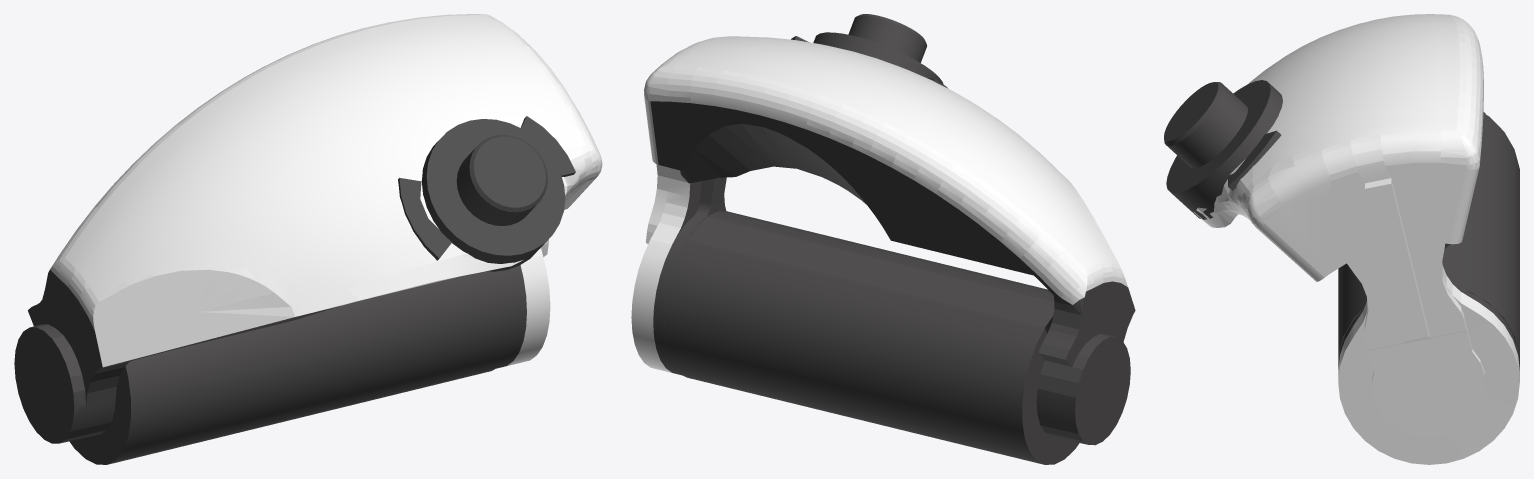
The model's file is LHipYawPitch.dae.
3 views of the same model, side by side, from view 1: azimuth 30°, elevation 25°; view 2: azimuth 150°, elevation 25°; view 3: azimuth 270°, elevation 25° (orthographic). The views are drawn at different scales.
Parts seen in each view (by area): view 1: LHipYawPitch; view 2: LHipYawPitch; view 3: LHipYawPitch.
Part boxes in pixels (x1,y1,x2,y2): LHipYawPitch: (14, 14, 602, 464); LHipYawPitch: (631, 14, 1135, 464); LHipYawPitch: (1164, 14, 1519, 464).
Bounding box in the file's own units: 0.828 × 0.5298 × 0.5674.
1 material, 1 textured.
